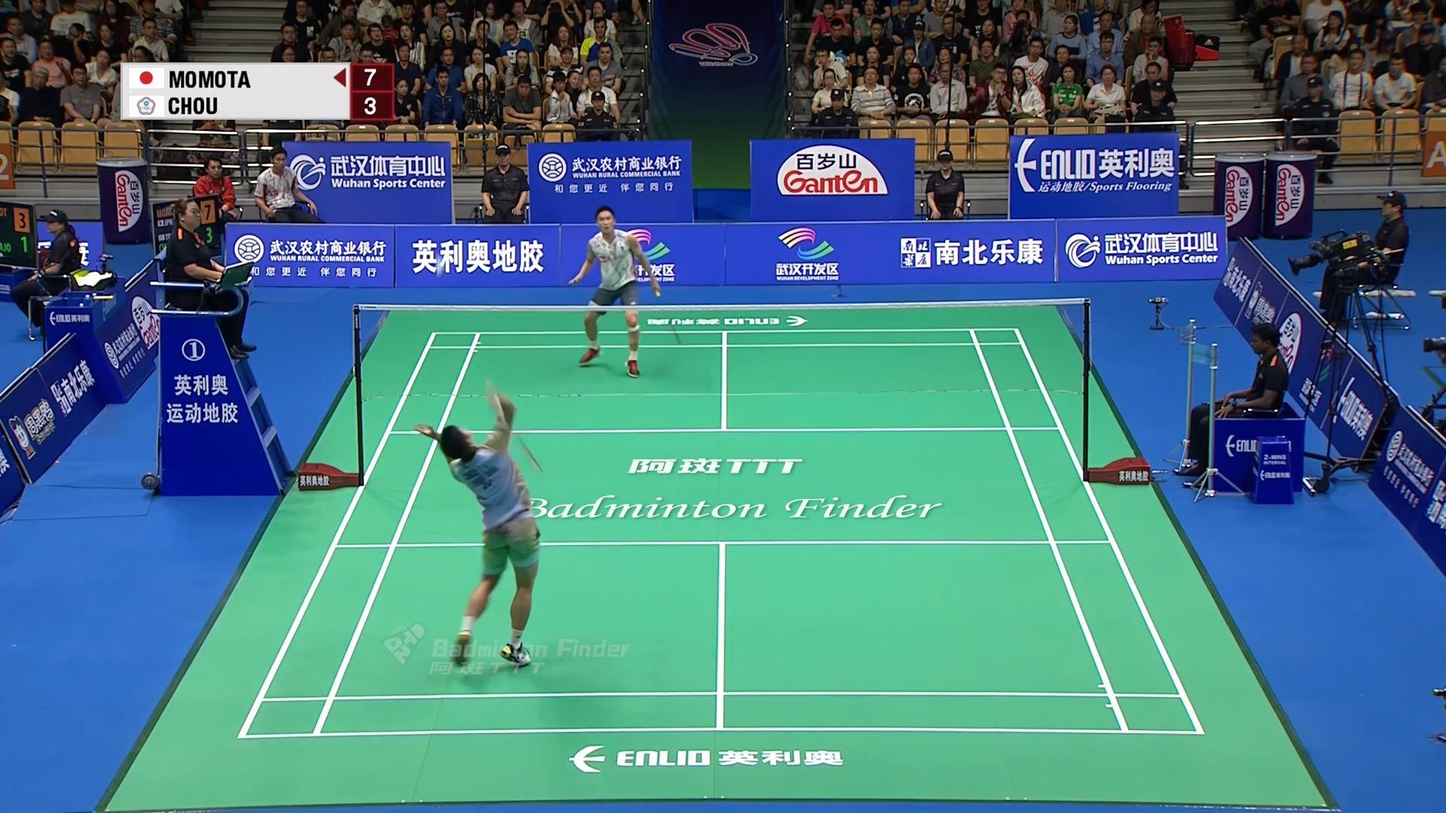player: (416, 393, 545, 665), (569, 206, 660, 379)
